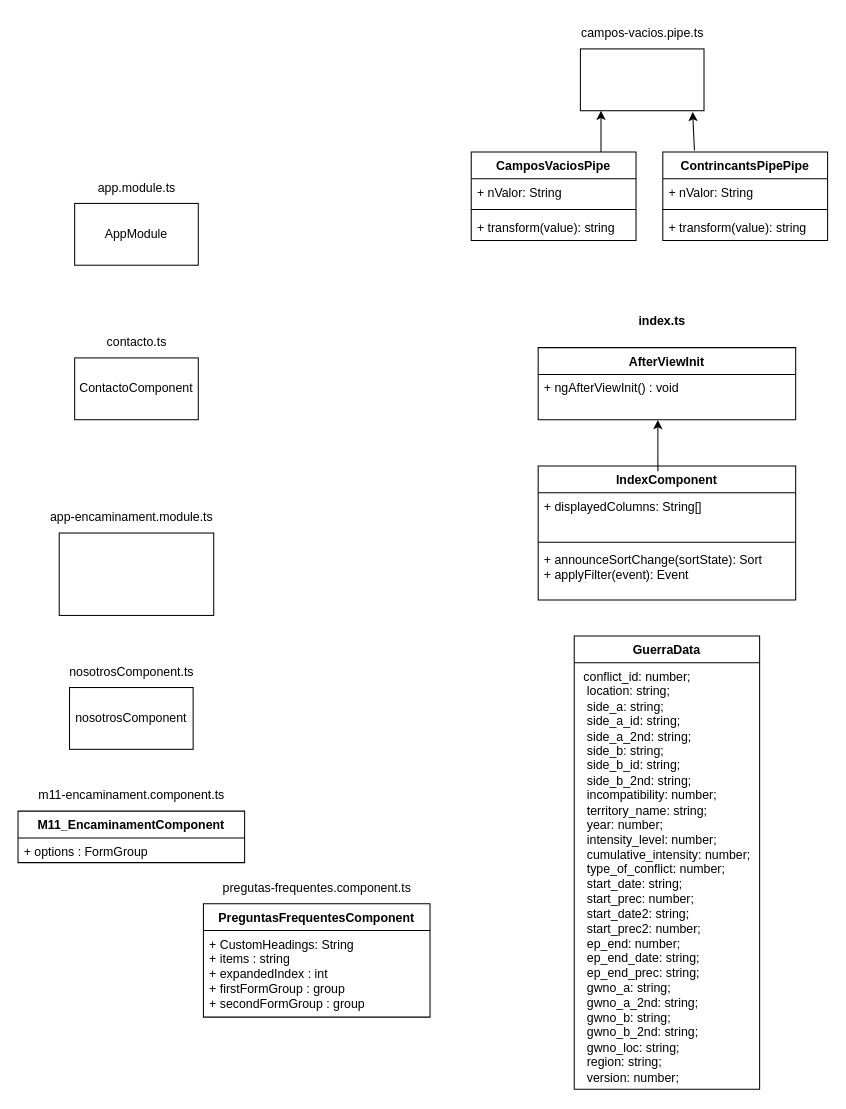
The diagram is 846 pixels wide and 1109 high, and some of its shapes have lost their labels. Each missing label, with the centre of its shape:
AppEncaminamentModule: point 136,573
PipeTransform: point 641,79
